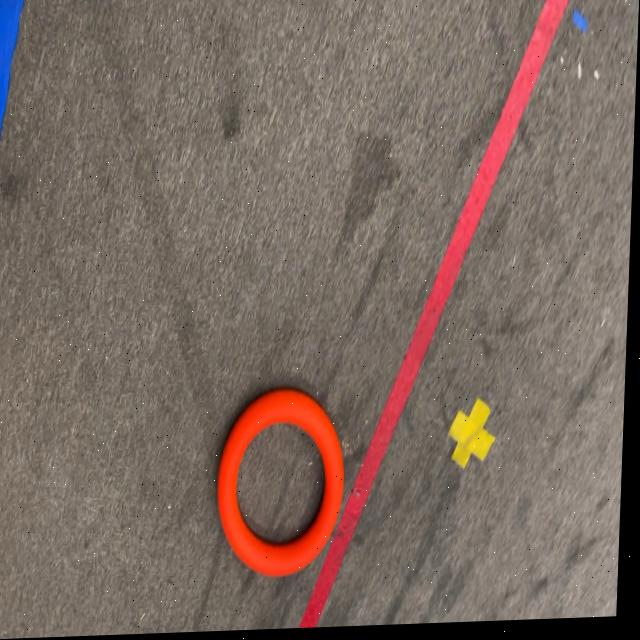note: (219, 390, 350, 581)
